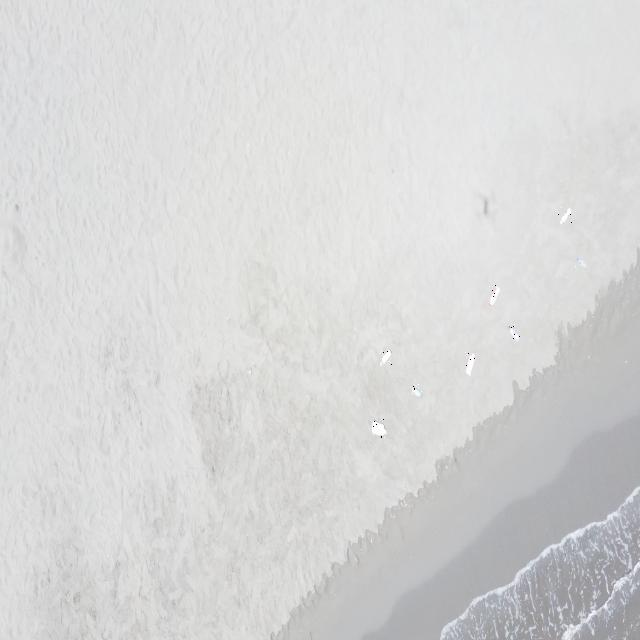Garbage: (372, 420, 386, 436), (488, 284, 499, 304), (466, 352, 475, 375), (560, 207, 571, 223), (508, 324, 519, 340), (380, 348, 390, 364), (575, 256, 586, 267), (412, 384, 420, 396), (557, 212, 559, 213)
